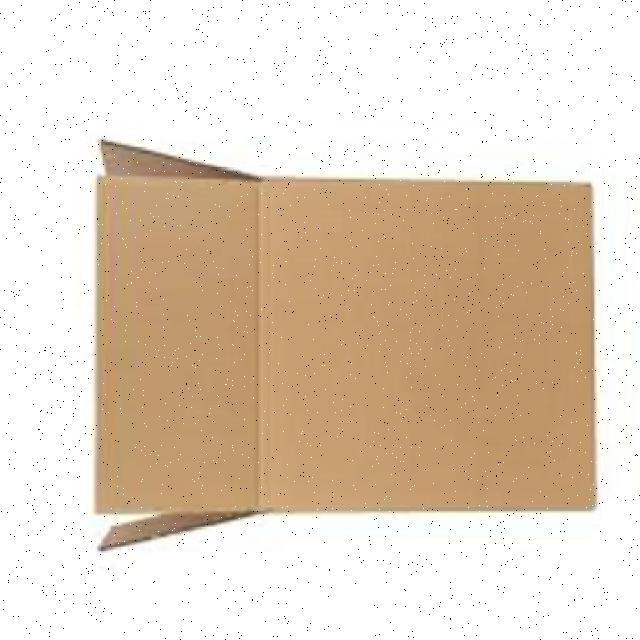defect: (83, 131, 602, 557)
